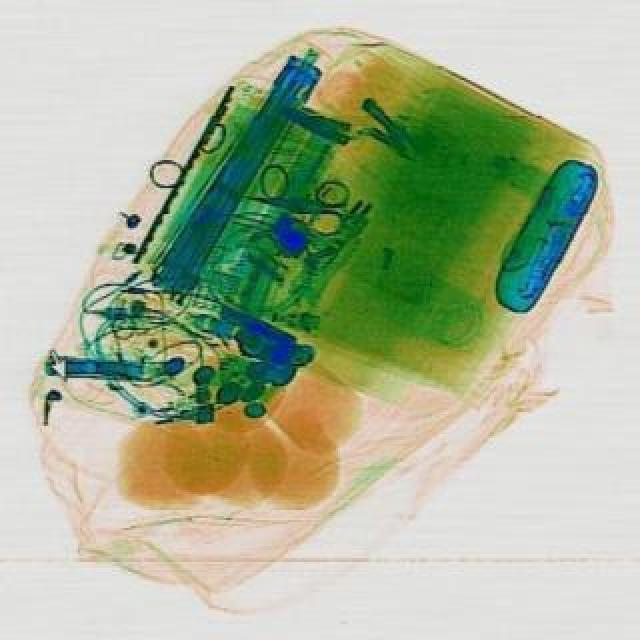pliers: (246, 174, 354, 240)
